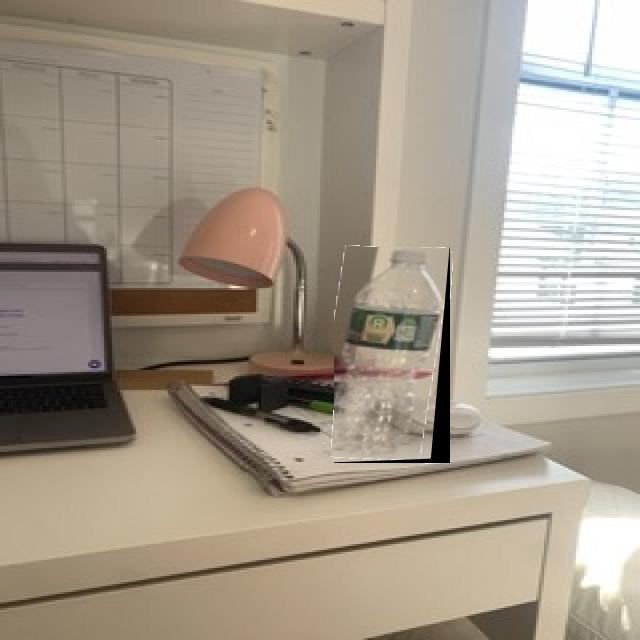water_bottle: (334, 247, 450, 463)
